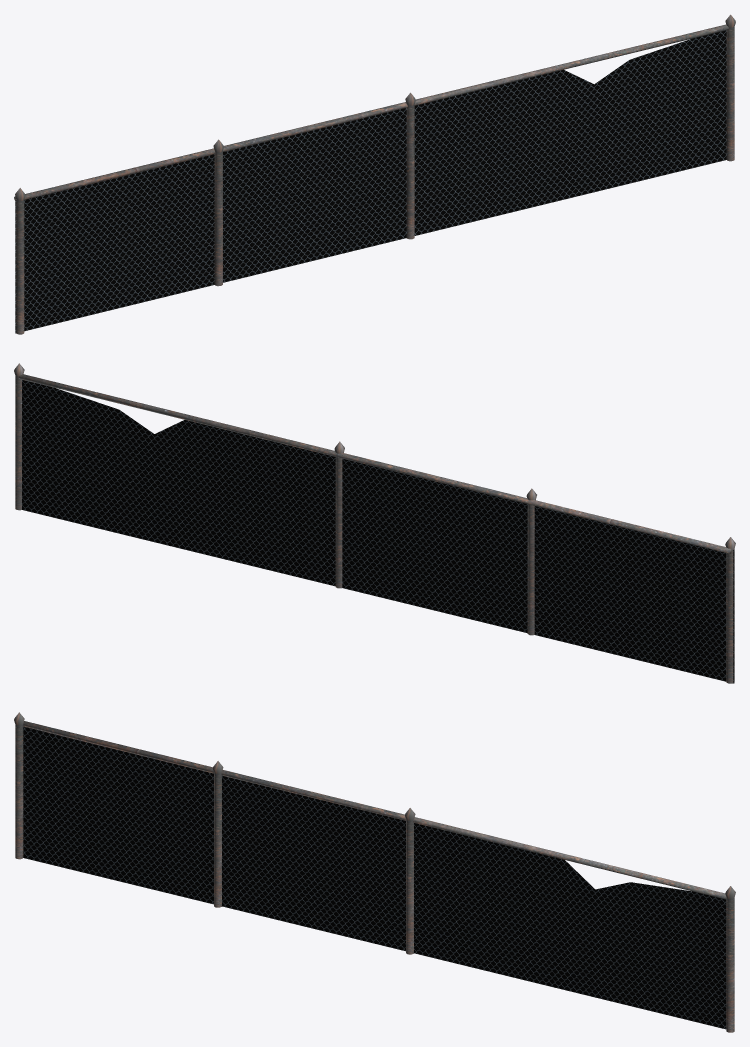
File: CercaArame.fbx
3 views of the same model, one above another, from view 1: azimuth 30°, elevation 25°; view 2: azimuth 150°, elevation 25°; view 3: azimuth 330°, elevation 25° (orthographic).
Parts seen in each view (by area): view 1: CercaArame; view 2: CercaArame; view 3: CercaArame.
Boxes of the visible parts, x1=… form: CercaArame: x1=14, y1=14, x2=735, y2=334; CercaArame: x1=14, y1=363, x2=735, y2=683; CercaArame: x1=14, y1=712, x2=735, y2=1032.
Size of the model in its own units: 1775 by 28.19 by 342.
